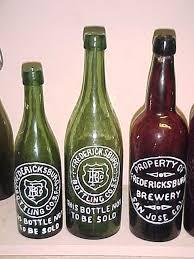Glass bottle: (64, 15, 130, 237), (136, 18, 188, 239), (9, 56, 64, 241)
